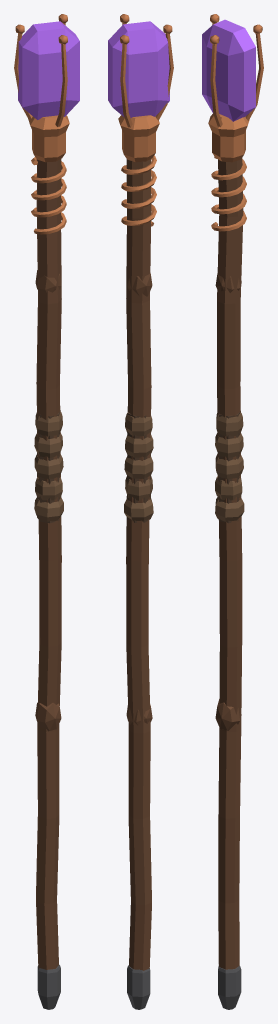
The model's file is staff_storm.glb.
3 renders of one model, left to right at view 1: azimuth 30°, elevation 25°; view 2: azimuth 210°, elevation 25°; view 3: azimuth 330°, elevation 25°, orthographic.
Parts seen in each view (by area): view 1: staff_storm; view 2: staff_storm; view 3: staff_storm.
Boxes of the visible parts, x1,y1,x2,y2 form: staff_storm: (14, 14, 79, 1009); staff_storm: (108, 14, 173, 1009); staff_storm: (202, 14, 263, 1009).
Size of the model in its own units: 0.0946 by 1.66 by 0.0862.
